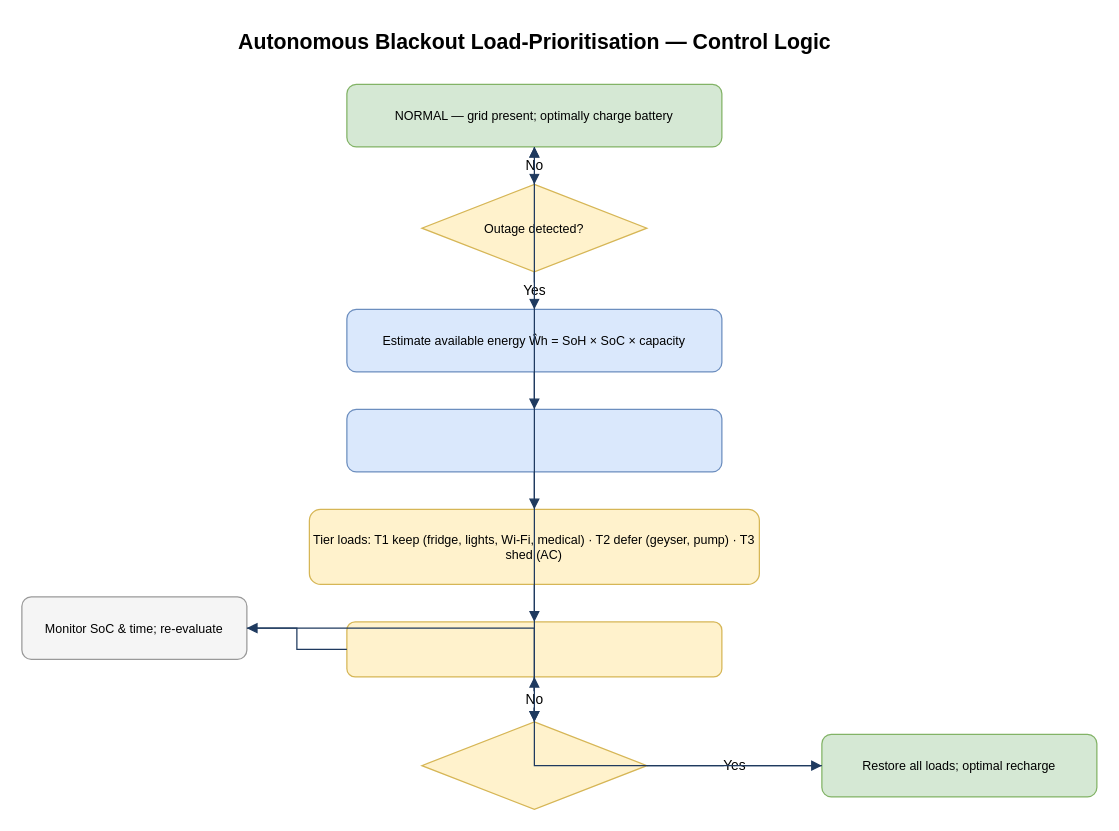
Some shapes in this 1119 by 831 pixel diagram are drawn without their labels. Here are the shapes that lost their labels. From the top down, the box of each, then its label:
(346, 408, 722, 472): Forecast demand & outage duration (habit autopilot)
(346, 621, 722, 677): Actuate relays — protect T1
(421, 721, 647, 809): Grid restored?
